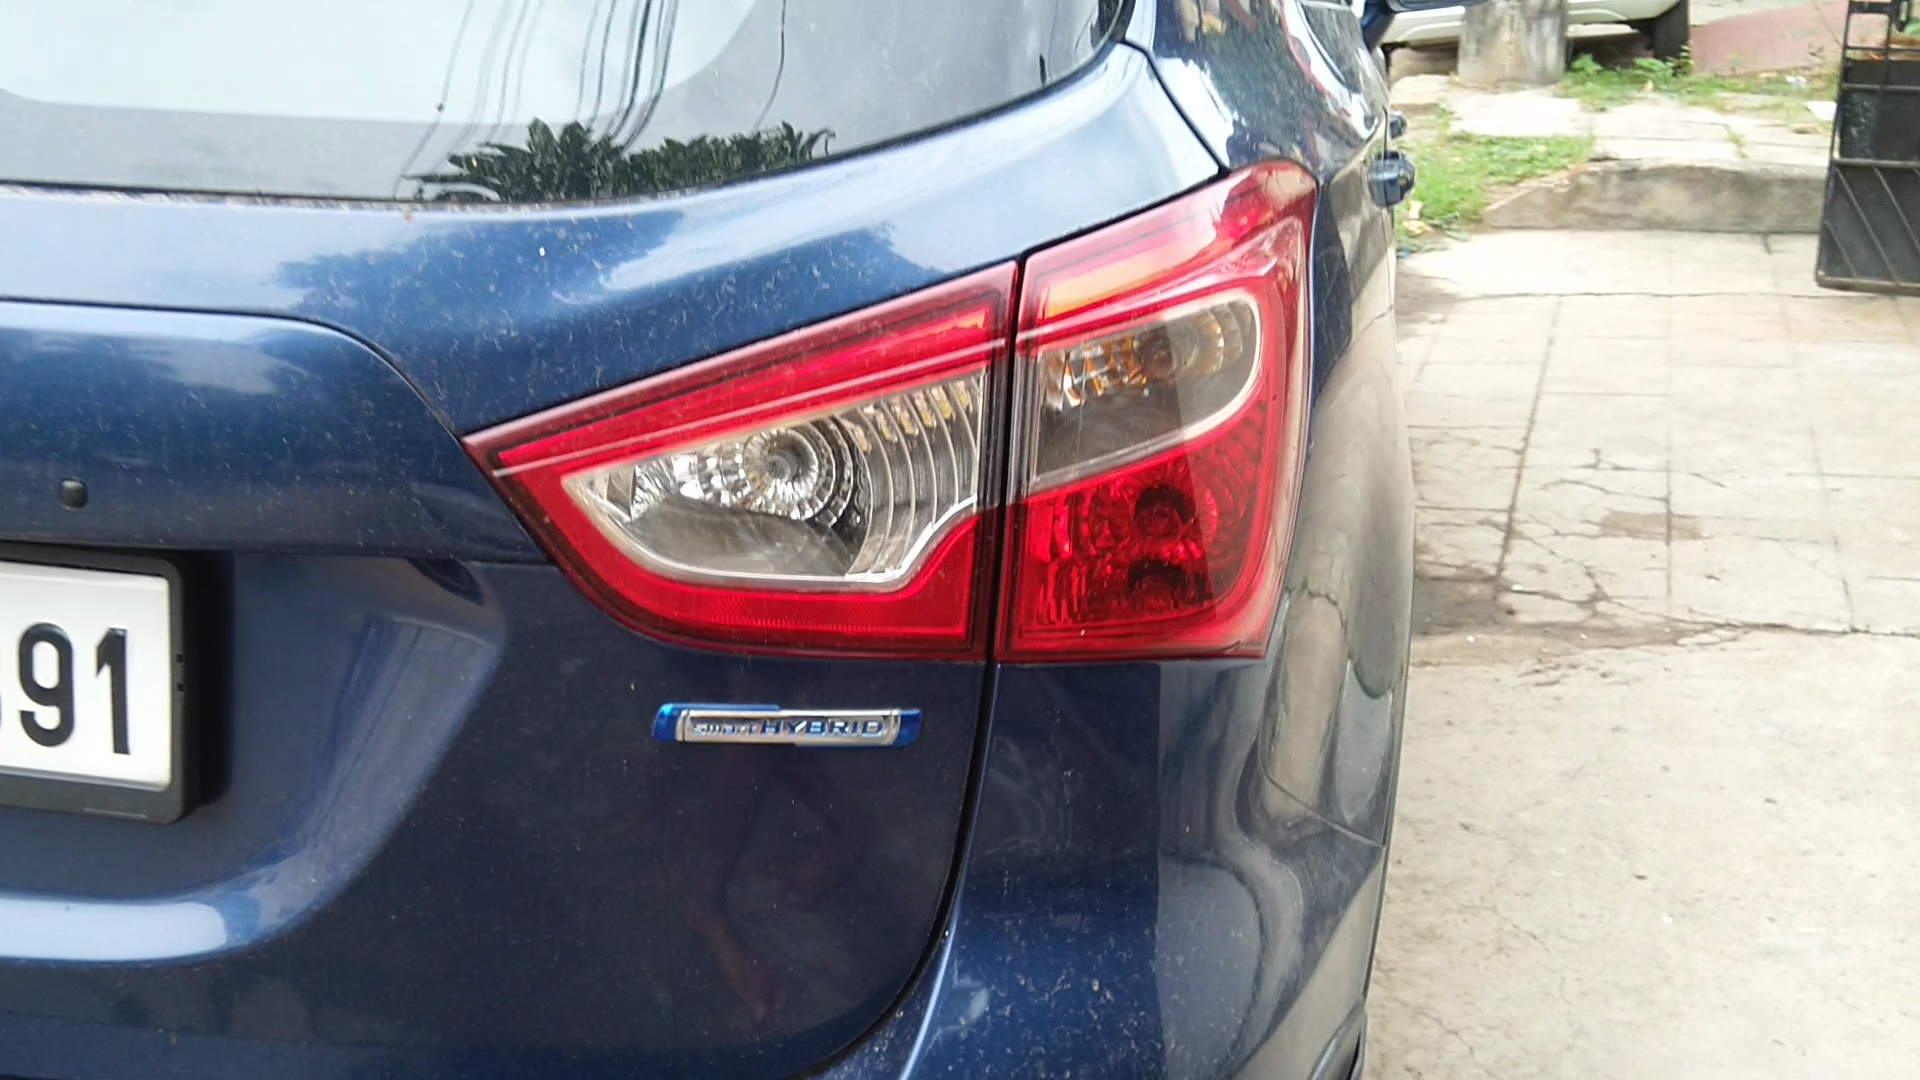shvs: (626, 682, 967, 777)
